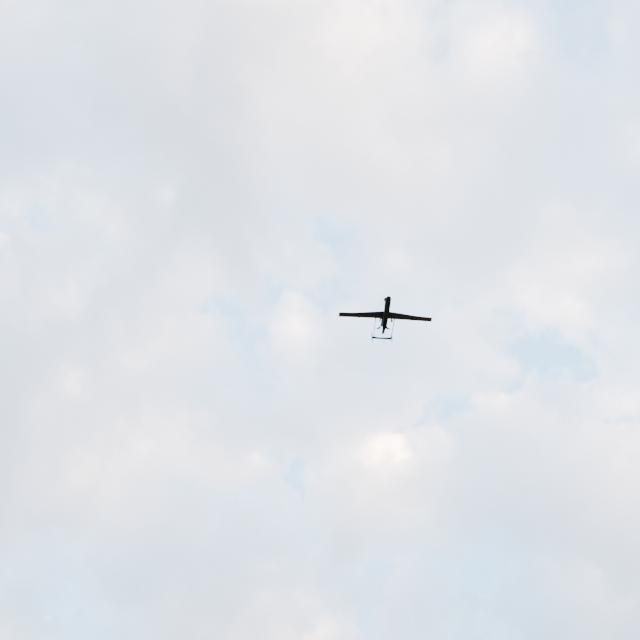Airaplan: (339, 296, 433, 344)
